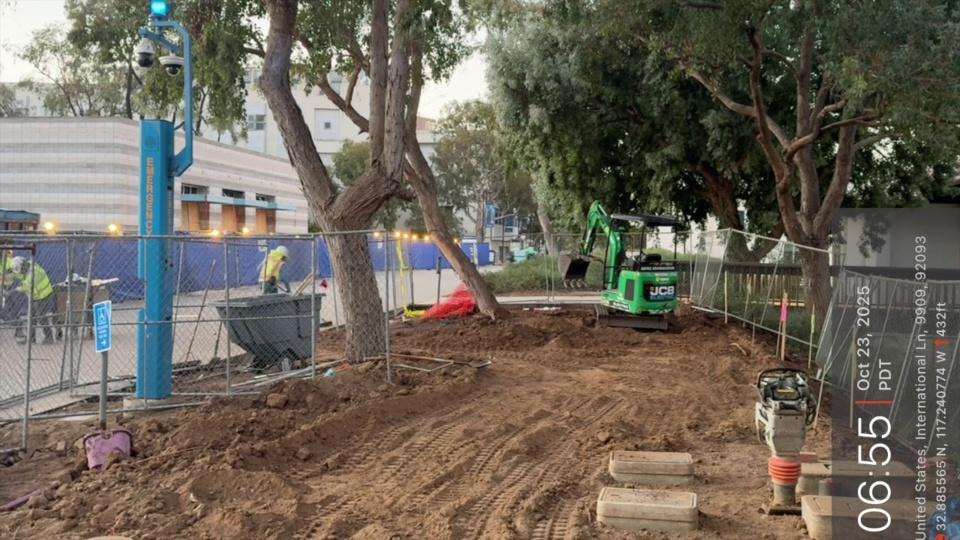Exacavator: (551, 182, 705, 336), (576, 198, 684, 331)
